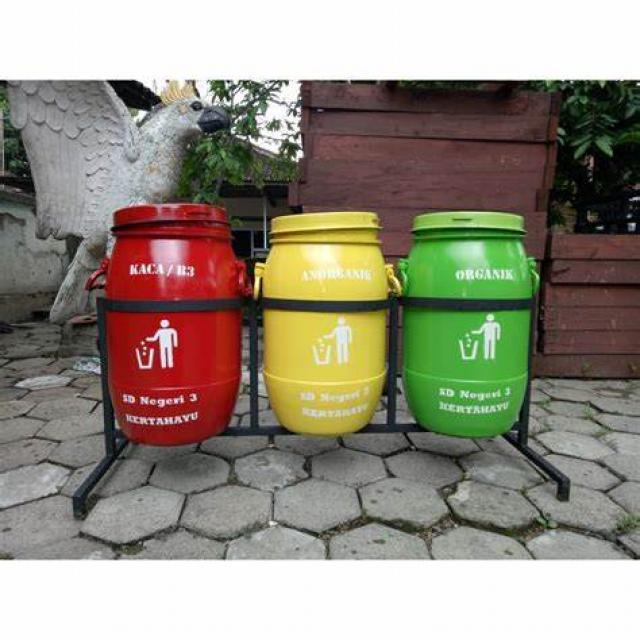garbage container: (52, 190, 258, 460), (401, 184, 558, 472), (254, 188, 402, 458)
